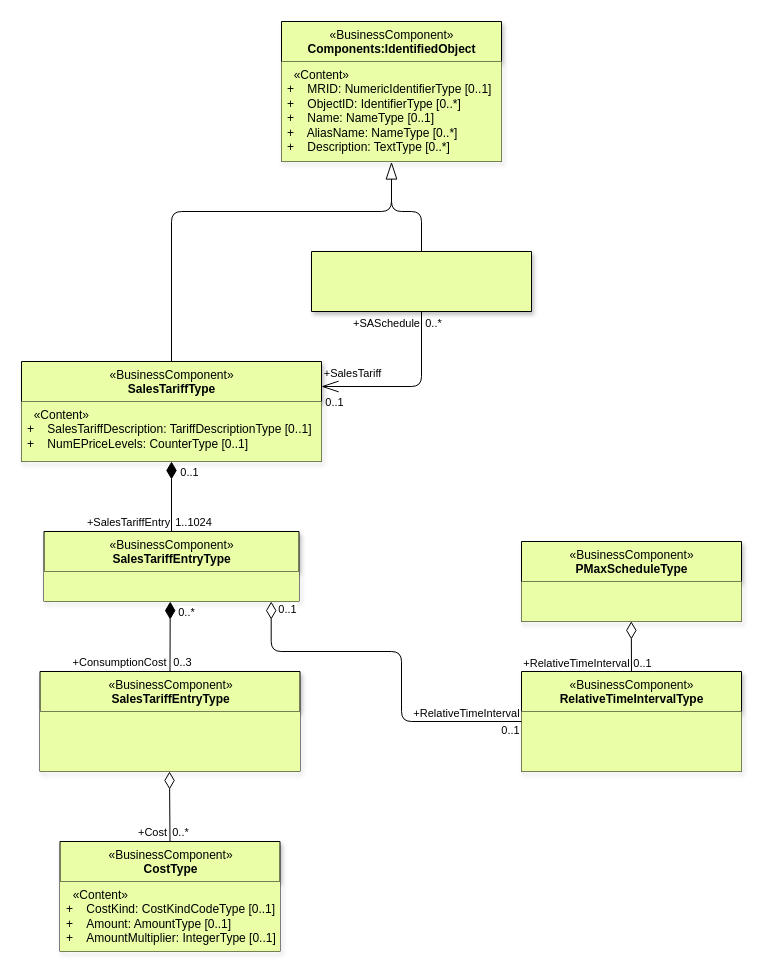
This 765x976 diagram has some shape labels left out. The shapes that lost their labels are listed below. From the top down, each one's centre as x and y in pixels, then its label:
At pixel 422 282: "« BusinessComponent » SAScheduleType".
At pixel 171 586: "+ EPriceLevel: UnsignedIntegerType [0..1]".
At pixel 631 601: "«Content» + Pmax: PowerType [0..1]".
At pixel 170 741: "«Content» + StartValue: NumericType [0..1]".
At pixel 631 741: "«Content» + Start: SecondsType [0..1] + Duration: SecondsType [0..1]".
